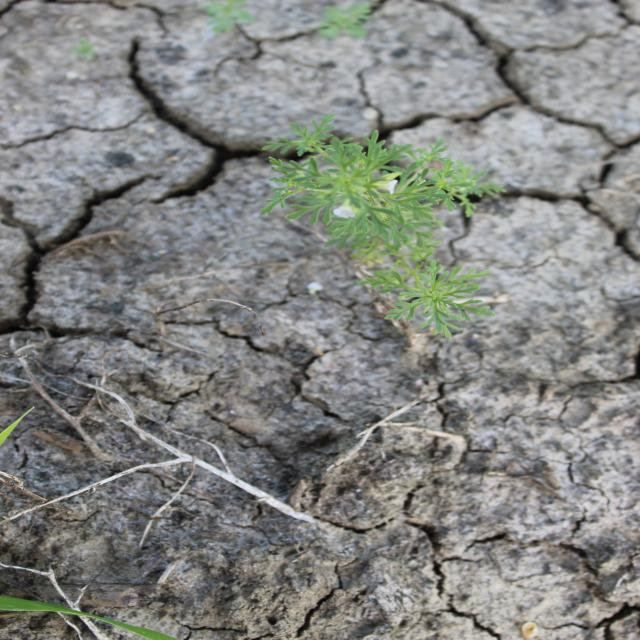Ragweed: (258, 111, 510, 341)
